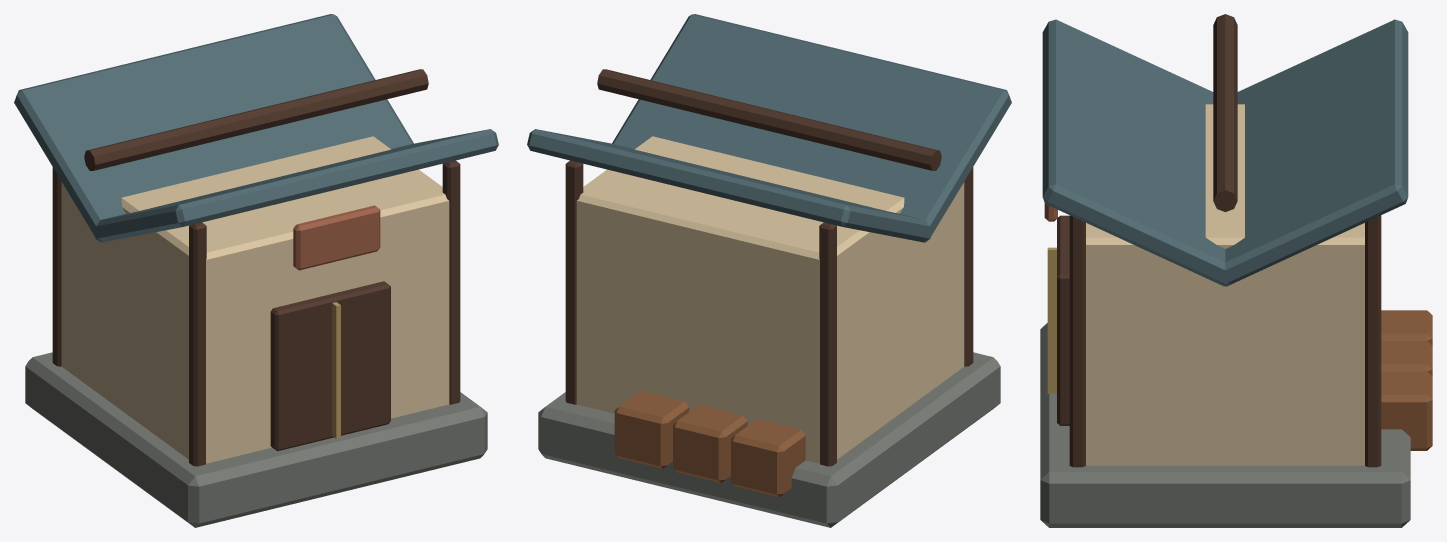
Rendered from building_warehouse.glb.
3 renders of one model, left to right at view 1: azimuth 30°, elevation 25°; view 2: azimuth 150°, elevation 25°; view 3: azimuth 270°, elevation 25°, orthographic. The views are drawn at different scales.
Parts seen in each view (by area): view 1: WarehouseWalls, TileRoof_Back, StonePlinth.001, DoubleDoor, TileRoof_Front, TileRoof_Ridge, CornerPost.004, WarehouseSign, CornerPost.006, CornerPost.005, DoorSeam; view 2: WarehouseWalls, TileRoof_Front, StonePlinth.001, TileRoof_Back, TileRoof_Ridge, Crate_00, Crate_02, Crate_01, CornerPost.005, CornerPost.007, CornerPost.004; view 3: WarehouseWalls, TileRoof_Back, TileRoof_Front, StonePlinth.001, TileRoof_Ridge, CornerPost.006, CornerPost.007, Crate_02, DoubleDoor, Crate_00, Crate_01, DoorSeam.
Part boxes in pixels (x1,y1,x2,y2): WarehouseWalls: [61, 136, 449, 463]; TileRoof_Back: [14, 14, 413, 242]; StonePlinth.001: [25, 352, 487, 527]; DoubleDoor: [270, 281, 390, 451]; TileRoof_Front: [93, 129, 498, 242]; TileRoof_Ridge: [84, 69, 428, 170]; CornerPost.004: [189, 222, 206, 466]; WarehouseSign: [293, 205, 380, 270]; CornerPost.006: [442, 160, 460, 404]; CornerPost.005: [52, 167, 61, 366]; DoorSeam: [332, 302, 340, 438]; WarehouseWalls: [576, 136, 964, 463]; TileRoof_Front: [612, 14, 1011, 242]; StonePlinth.001: [538, 352, 1000, 527]; TileRoof_Back: [527, 129, 932, 242]; TileRoof_Ridge: [597, 69, 941, 170]; Crate_00: [731, 419, 805, 497]; Crate_02: [614, 390, 689, 468]; Crate_01: [673, 405, 747, 482]; CornerPost.005: [819, 222, 836, 466]; CornerPost.007: [565, 160, 583, 404]; CornerPost.004: [964, 167, 973, 366]; WarehouseWalls: [1086, 104, 1364, 465]; TileRoof_Back: [1218, 19, 1408, 286]; TileRoof_Front: [1042, 19, 1232, 286]; StonePlinth.001: [1040, 323, 1410, 527]; TileRoof_Ridge: [1213, 14, 1237, 211]; CornerPost.006: [1069, 215, 1085, 467]; CornerPost.007: [1365, 215, 1381, 467]; Crate_02: [1381, 371, 1432, 450]; DoubleDoor: [1057, 215, 1069, 425]; Crate_00: [1381, 310, 1432, 345]; Crate_01: [1381, 341, 1432, 376]; DoorSeam: [1047, 247, 1056, 393].
Bounding box in the file's own units: 1.89 × 1.76 × 1.78.
